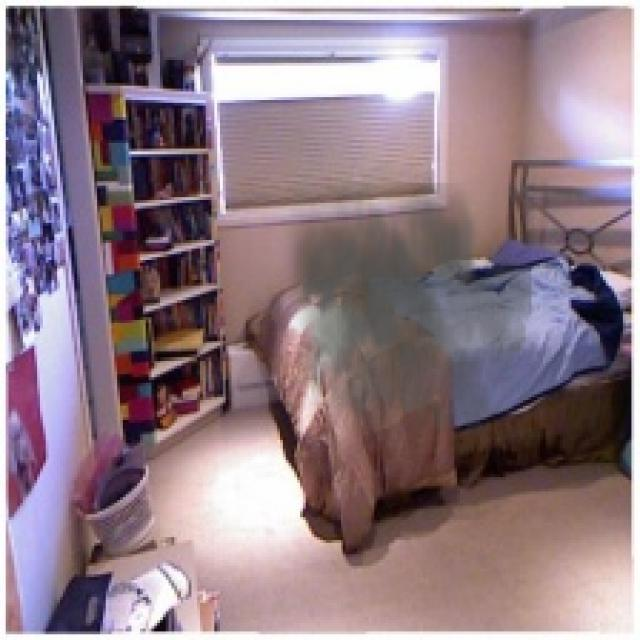Smoke: (277, 183, 532, 466)
